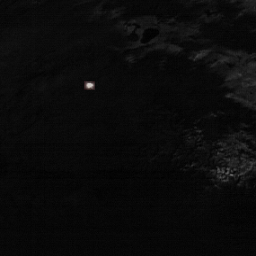Target: (85, 82, 94, 89)
